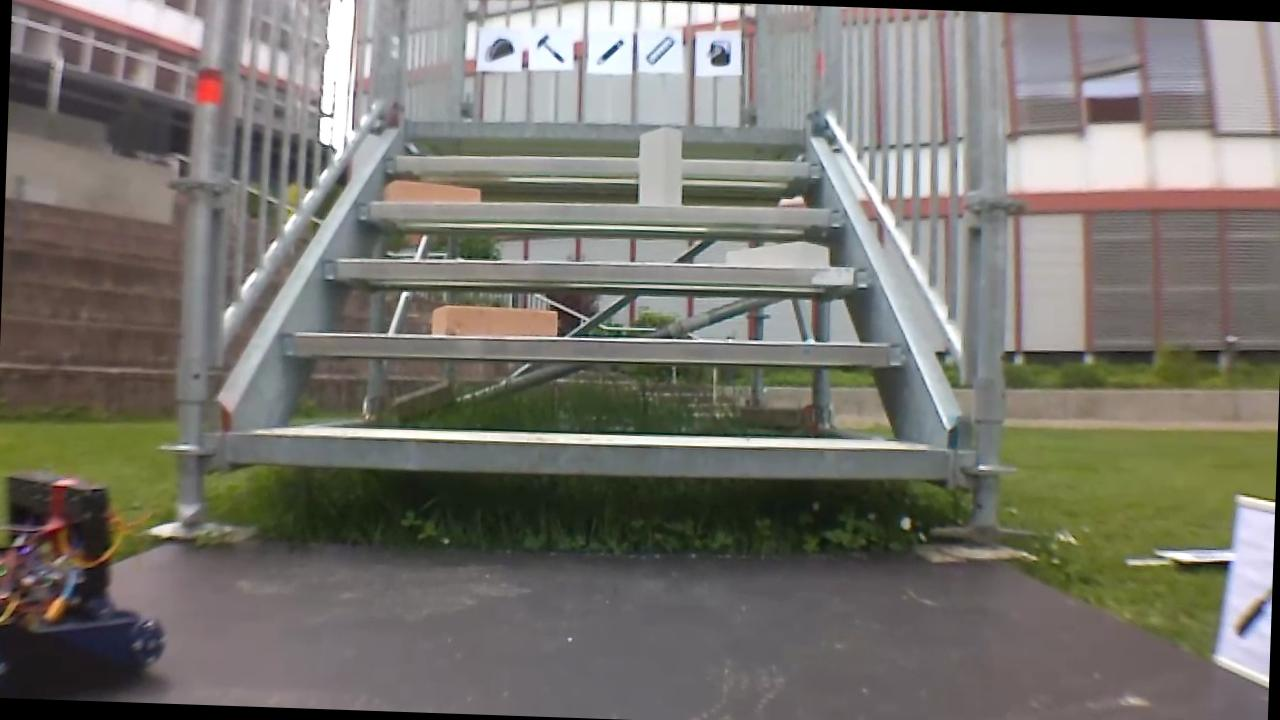brick: (429, 303, 555, 339), (637, 124, 682, 206), (384, 179, 480, 203)
bucket: (702, 35, 734, 69)
edge: (225, 423, 949, 484), (285, 322, 905, 373), (324, 249, 871, 294), (356, 193, 849, 232), (385, 149, 818, 184), (403, 114, 811, 146)
hammer: (532, 31, 572, 67)
pencil: (590, 33, 628, 68)
ruler: (643, 30, 681, 67)
steps: (212, 101, 968, 496)
taco: (481, 32, 518, 65)
